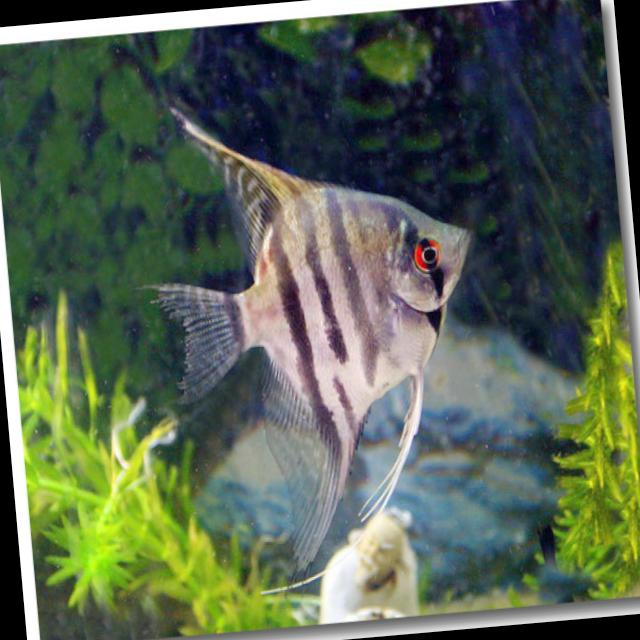AngelFish: (134, 68, 504, 600)
